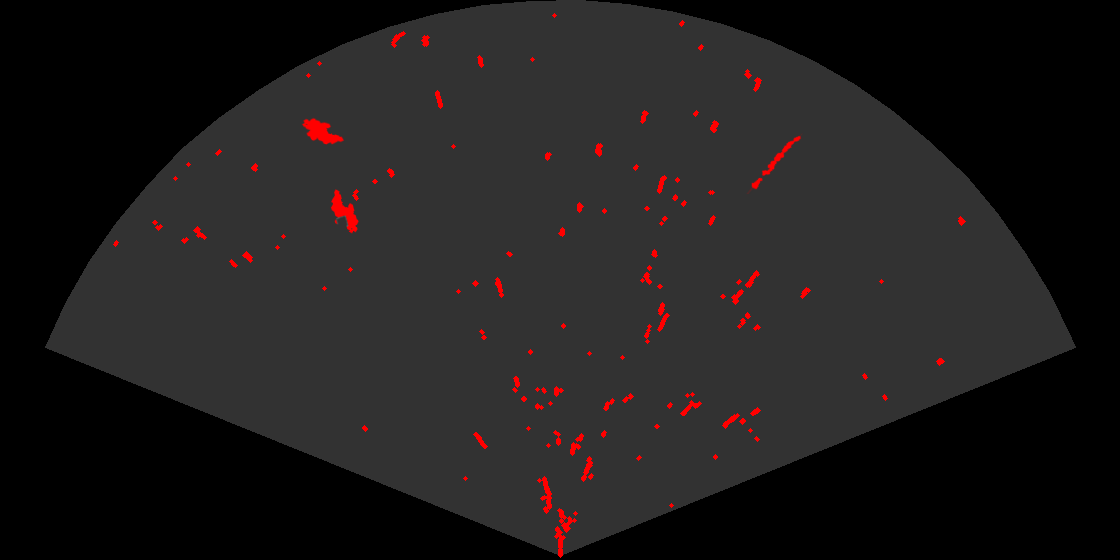AUV: (329, 188, 360, 235), (300, 116, 346, 146)
chain: (745, 132, 804, 194)
